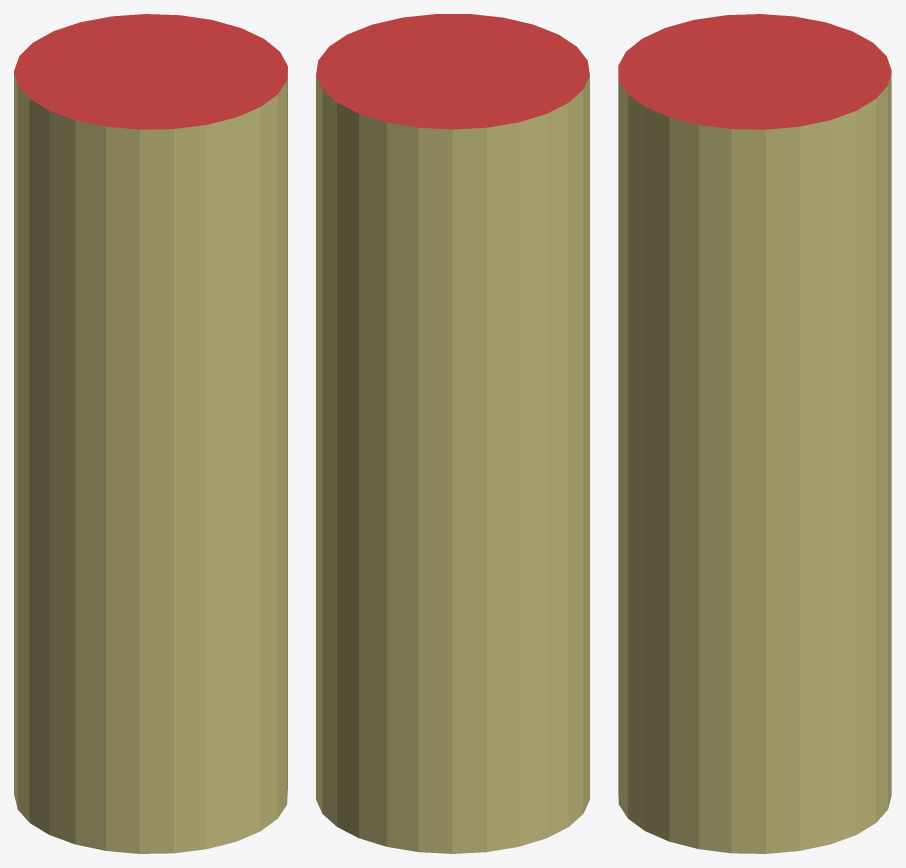
3 renders of one model, left to right at view 1: azimuth 30°, elevation 25°; view 2: azimuth 150°, elevation 25°; view 3: azimuth 270°, elevation 25°, orthographic.
Bounding box in the file's own units: 3.45 × 3.44 × 10.06.
